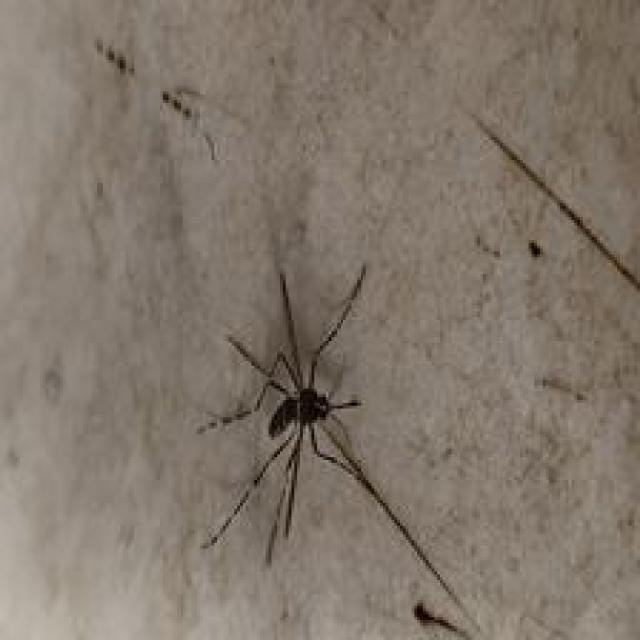Aedes albopictus: (194, 262, 492, 638)
